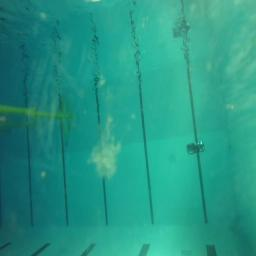Full: (186, 140, 204, 154)
